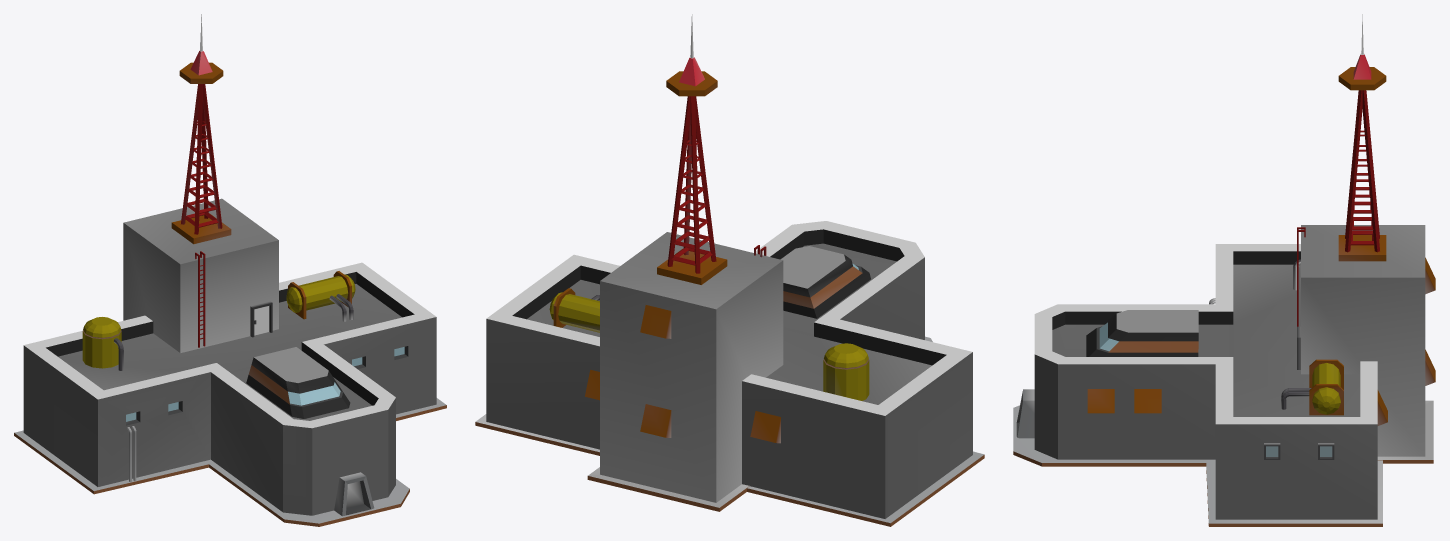
Rendered from edificacao3.fbx.
The picture shows the model from 3 angles, left to right: view 1: azimuth 30°, elevation 25°; view 2: azimuth 150°, elevation 25°; view 3: azimuth 270°, elevation 25°; orthographic projection. The views are drawn at different scales.
Visible parts, largest first — view 1: edificacao3; view 2: edificacao3; view 3: edificacao3.
Boxes of the visible parts, <box> form: edificacao3: <box>14,14,446,526</box>; edificacao3: <box>475,14,984,526</box>; edificacao3: <box>1013,14,1435,526</box>.
Bounding box in the file's own units: 2583 × 2696 × 2457.
